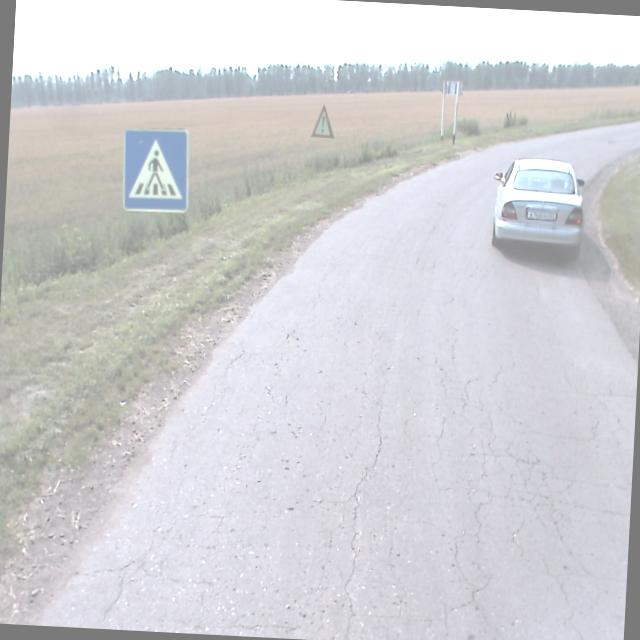road: (34, 120, 640, 640)
